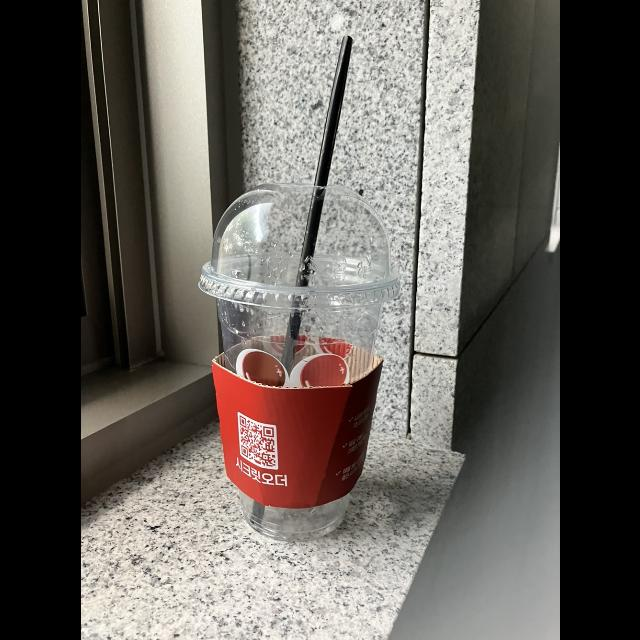plastic_cup: (193, 182, 404, 568)
plastic_cup_lid: (199, 184, 401, 302)
straw: (252, 37, 355, 532)
